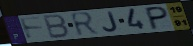4: (127, 7, 148, 32)
B: (42, 13, 71, 40)
F: (18, 16, 46, 41)
J: (102, 11, 120, 33)
P: (145, 5, 169, 31)
R: (68, 11, 101, 38)
